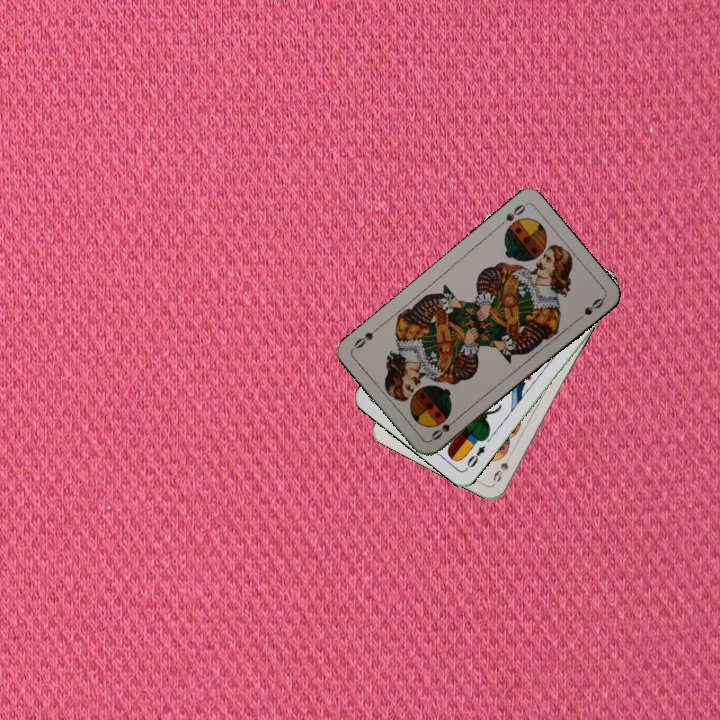EO: (463, 441, 488, 470)
S9: (489, 449, 515, 485)
SO: (427, 413, 461, 444), (494, 200, 528, 230)
